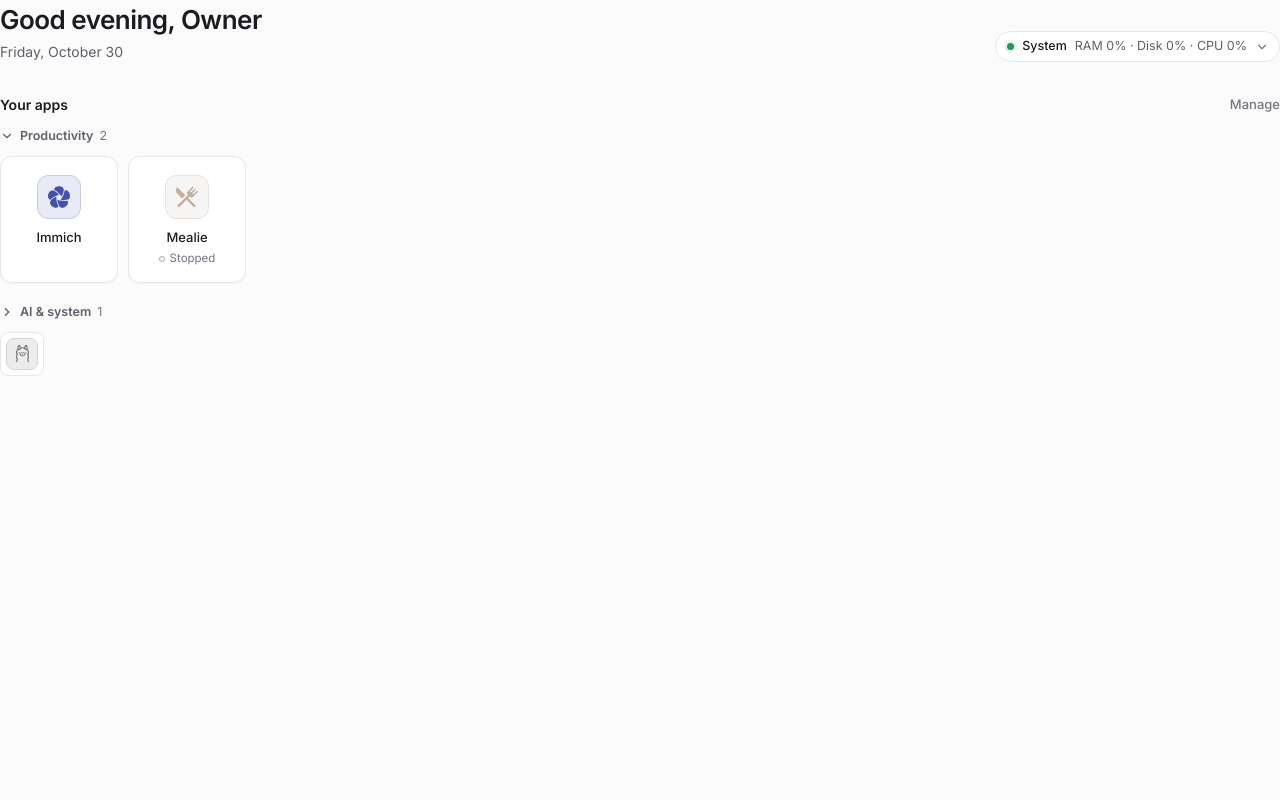
Scenario: Home › opens a quick panel for every installed app, grouped by category, with Open and its controls
This screenshot has width=1280, height=800.
Click the button "AI & system 1" at x=53, y=312, box [0, 300, 106, 323]
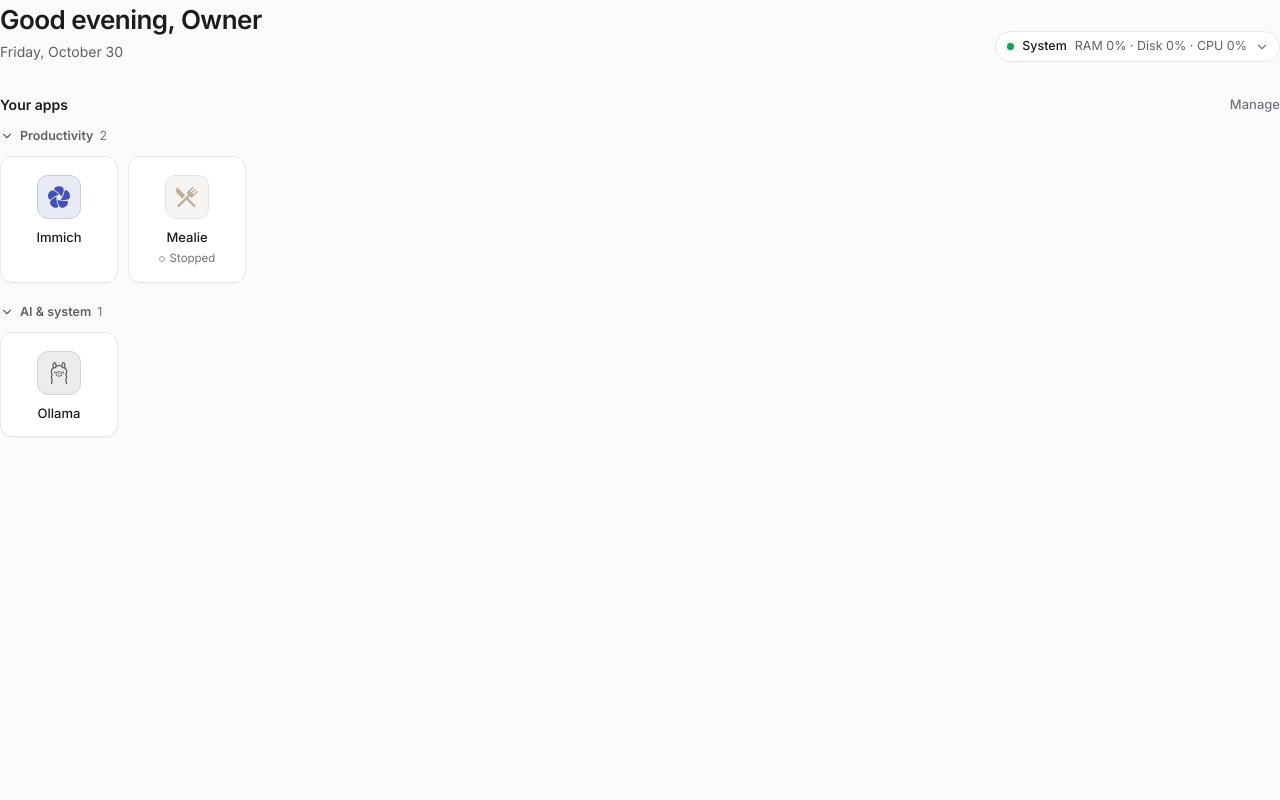
Expected: the button "AI & system 1" is expanded
Click the button "AI & system 1" at x=53, y=312, box [0, 300, 106, 323]
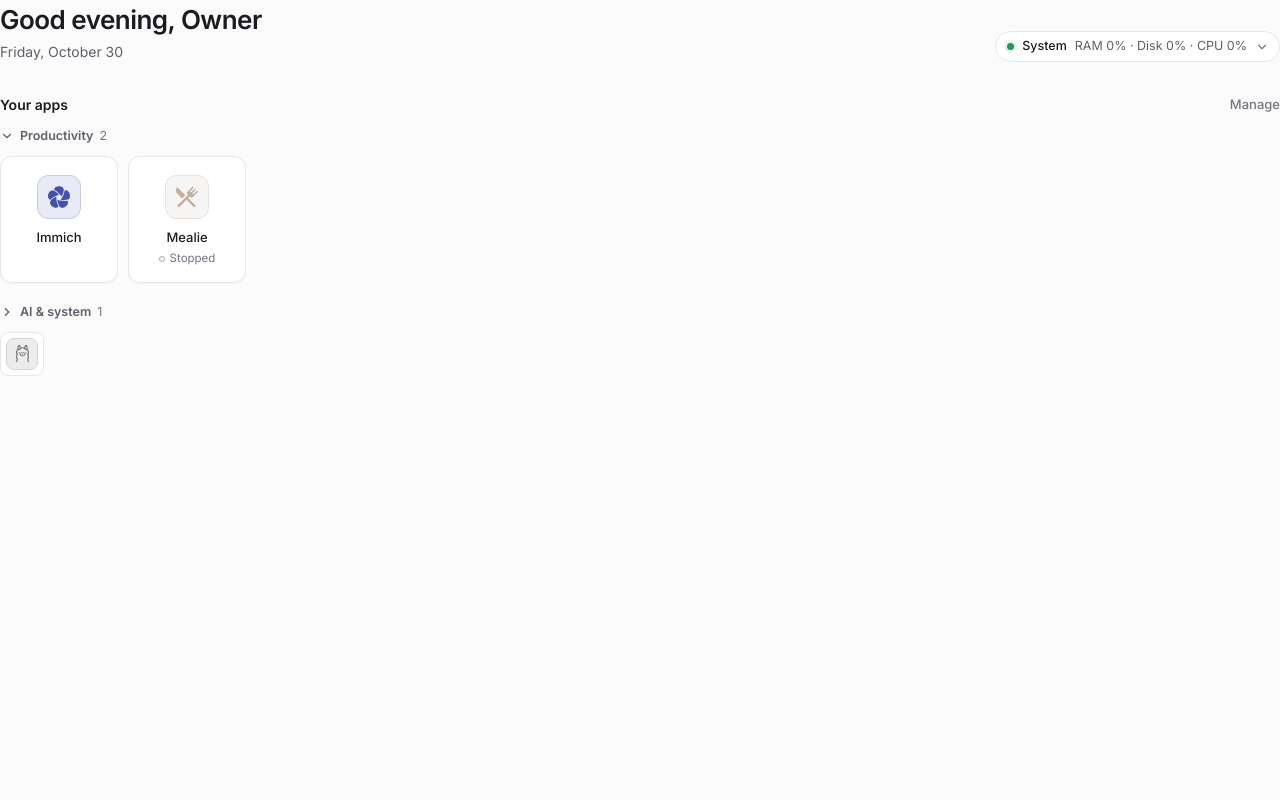
Click the button with aria-label "Immich: Running" at x=59, y=219, box [0, 156, 118, 282]
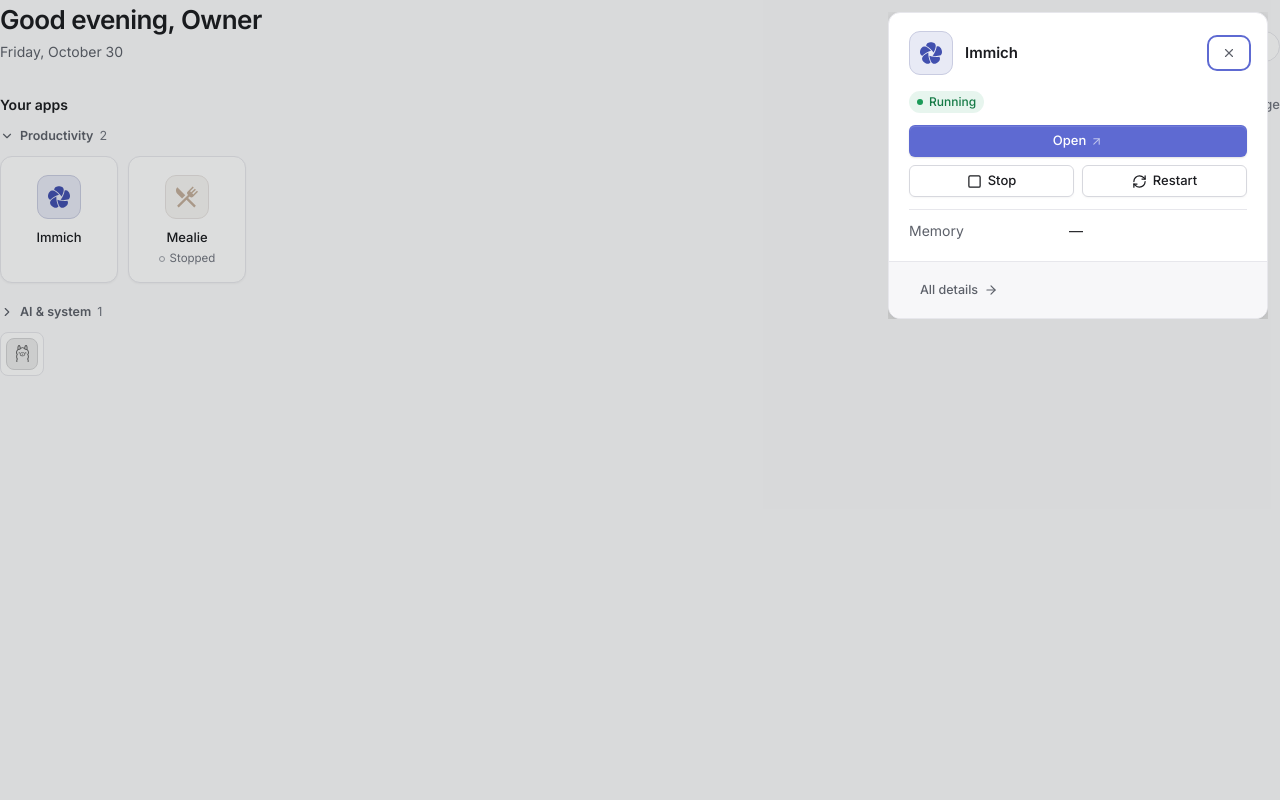
Expected: the button "Stop" is shown, [909, 165, 1074, 197]
Click the button named "Close" at x=1229, y=53, box [1211, 39, 1247, 67]
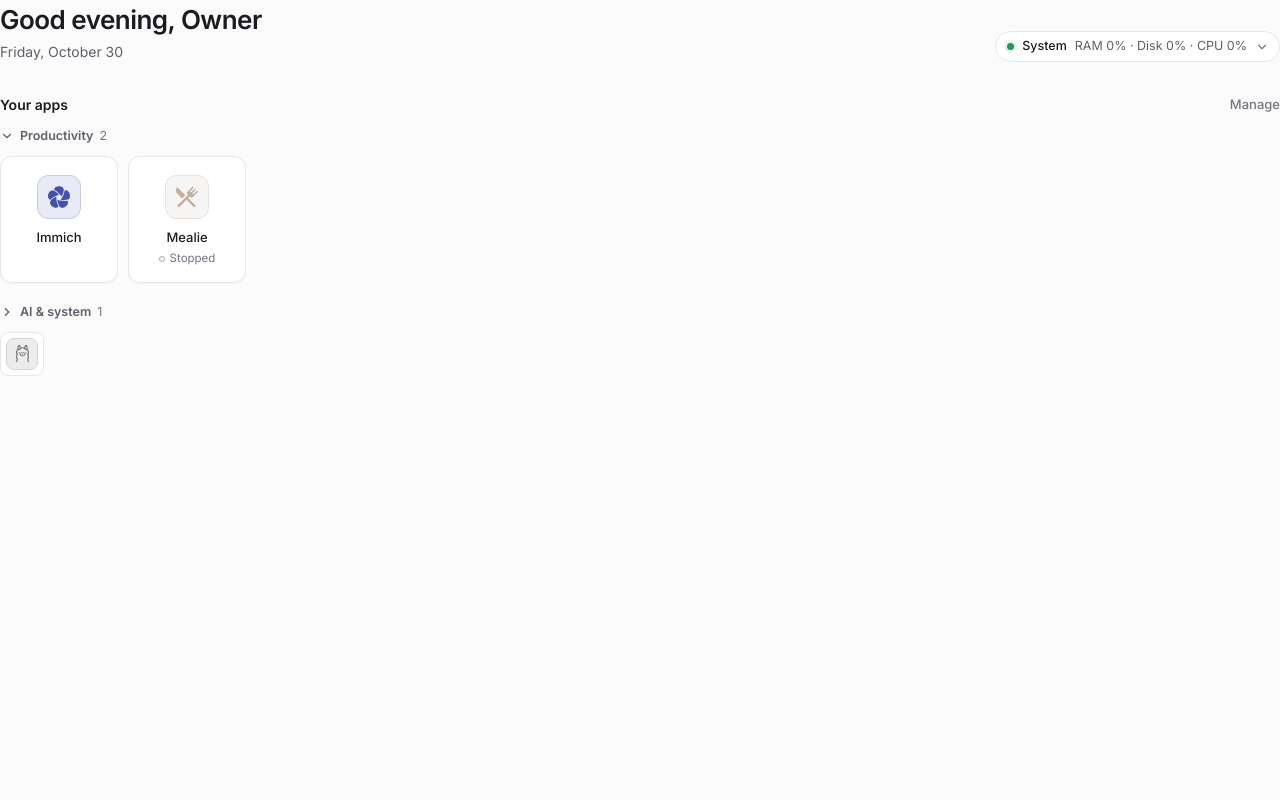
Click the button with aria-label "Mealie: Stopped" at x=187, y=219, box [128, 156, 246, 282]
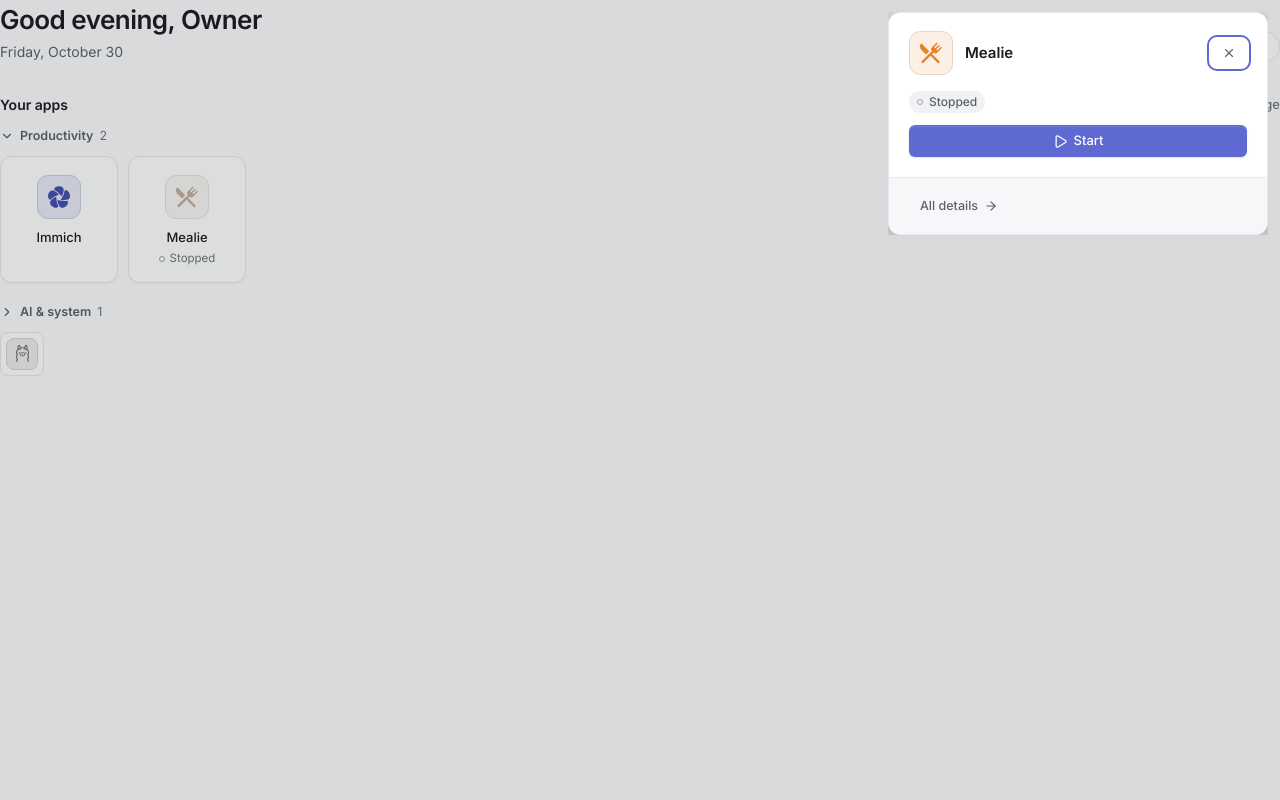
Expected: the link "Open" is not shown
Expected: the button "Start" is shown, [909, 125, 1247, 157]
